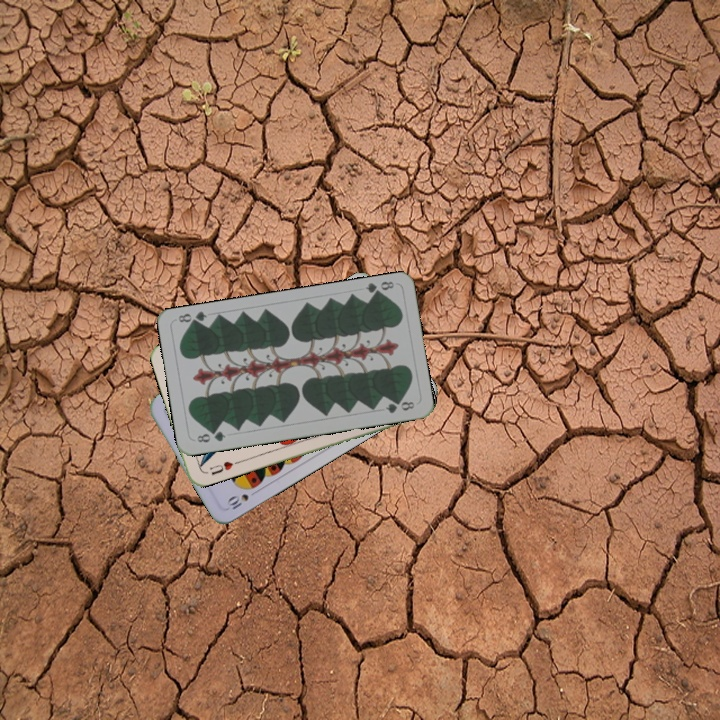G8: (361, 277, 396, 299), (193, 427, 228, 445)
HU: (206, 457, 241, 478)
S10: (223, 486, 261, 513)
